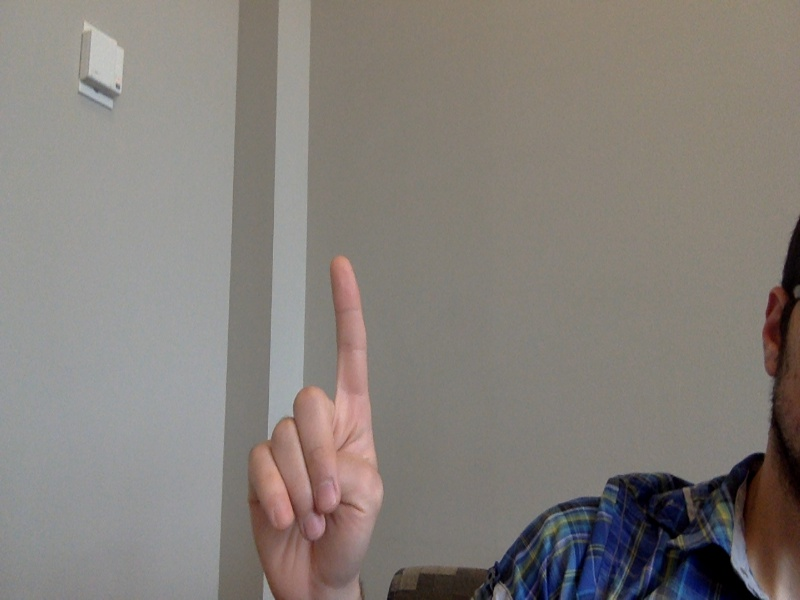1-hand: (248, 255, 385, 600)
